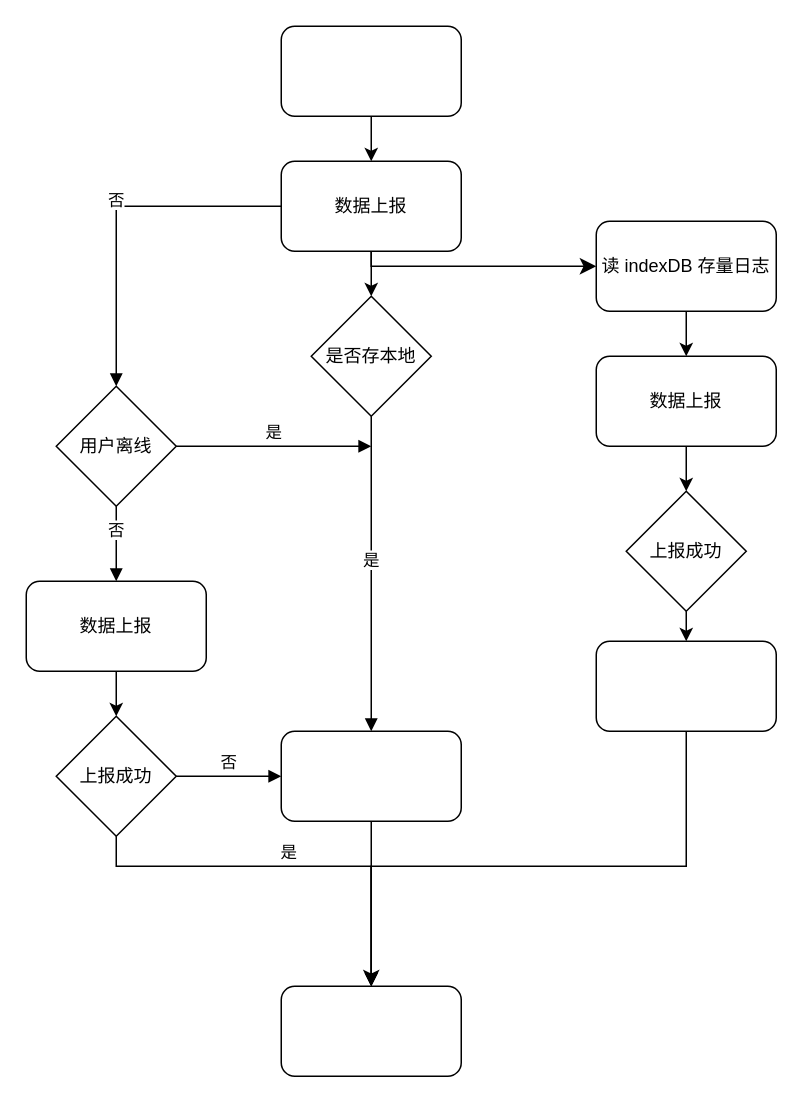
Some shapes in this 803 by 1103 pixel diagram are drawn without their labels. Each missing label, with the centre of its shape:
"存 IndexDB" goes at (370,775).
"开始" goes at (370,70).
"清除 IndexDB" goes at (685,685).
"结束" goes at (370,1030).
